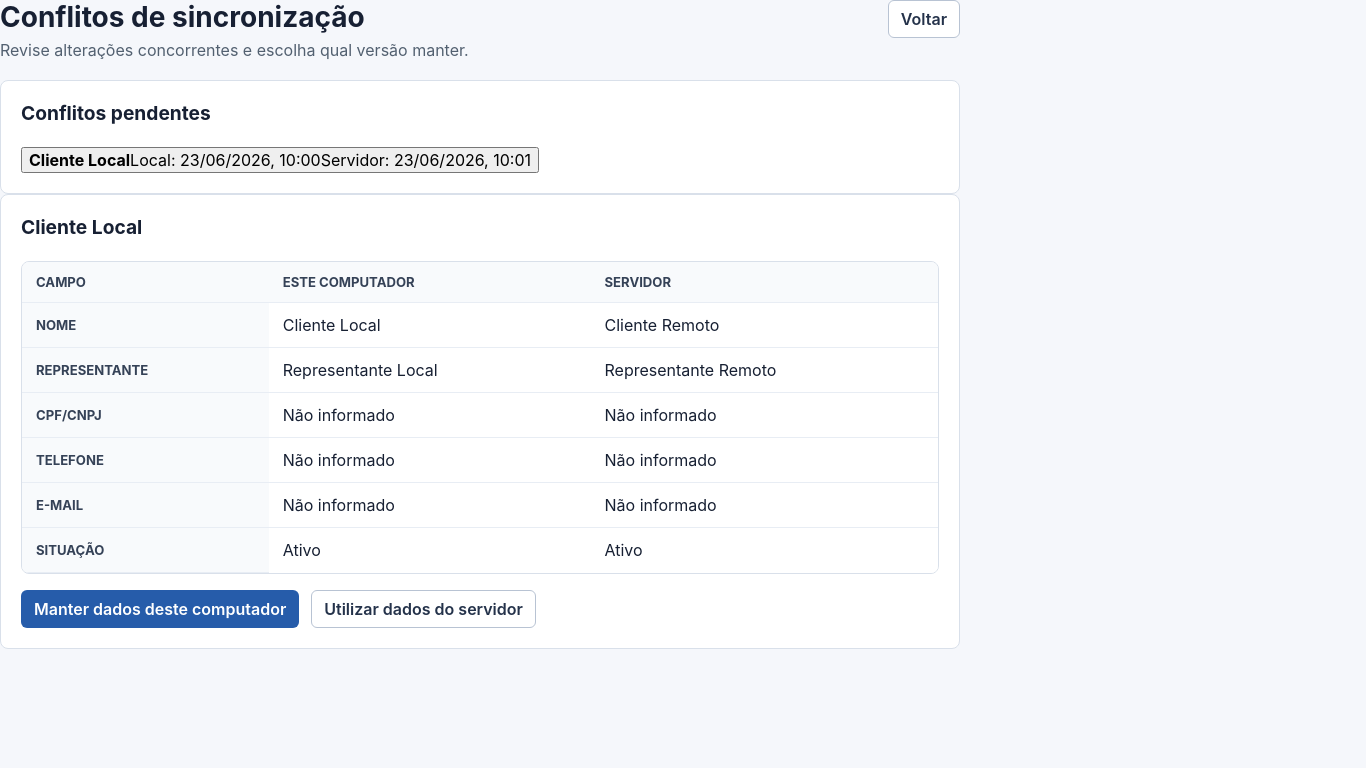
SyncConflictsPage › resolves a conflict using the remote version after confirmation
Expected: the heading "Cliente Local" is shown, [21,215,142,239]
Click the button "Utilizar dados do servidor" at (424, 608), box [311,590,536,628]
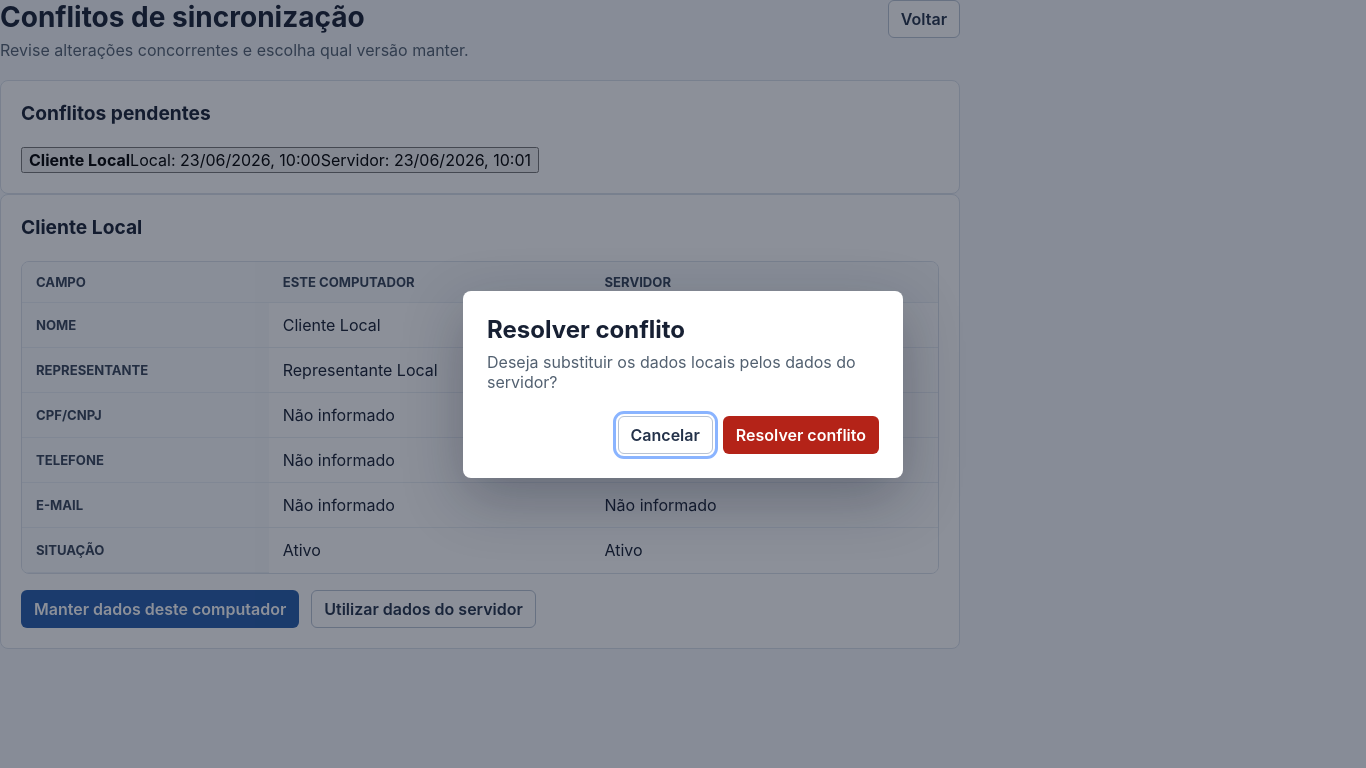
Click the button "Resolver conflito" at (801, 434), box [723,416,879,454]
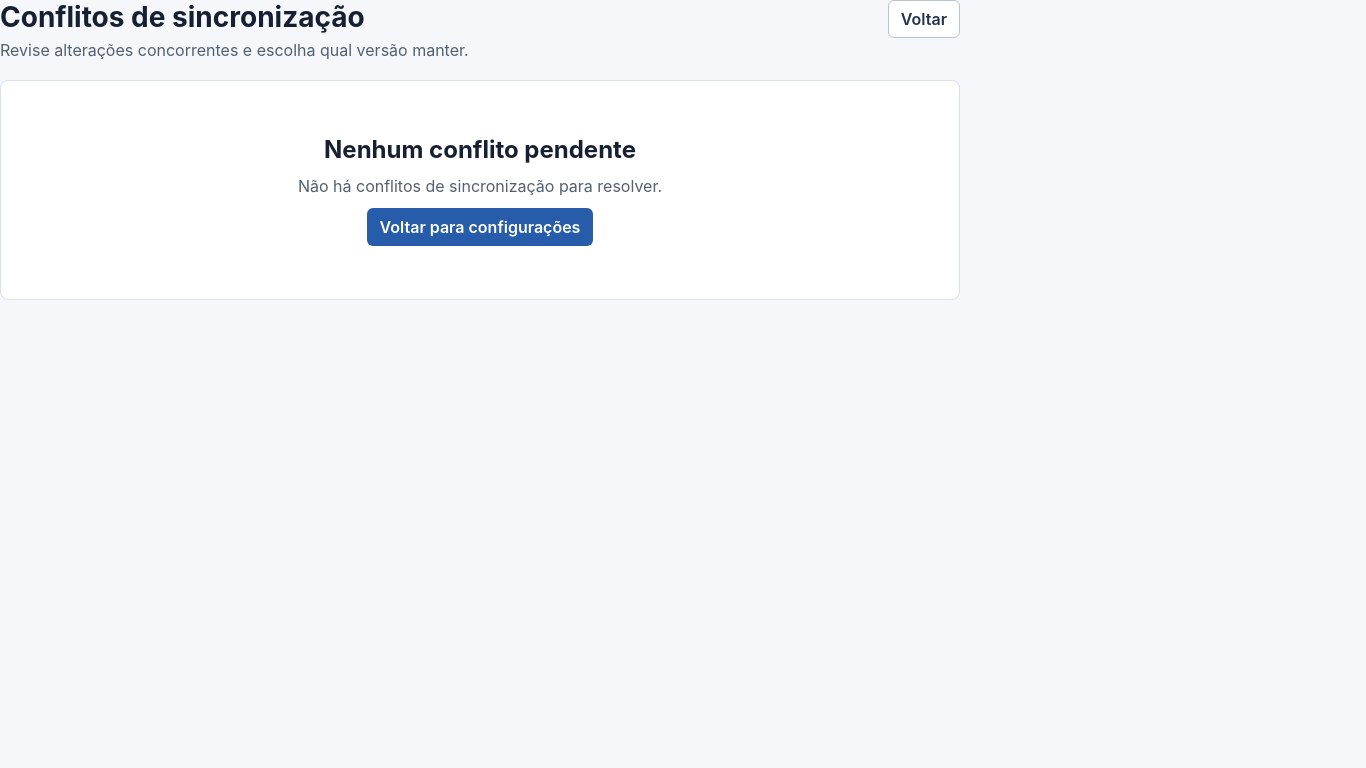
Result: the heading "Nenhum conflito pendente" is shown at [324,134,636,164]
